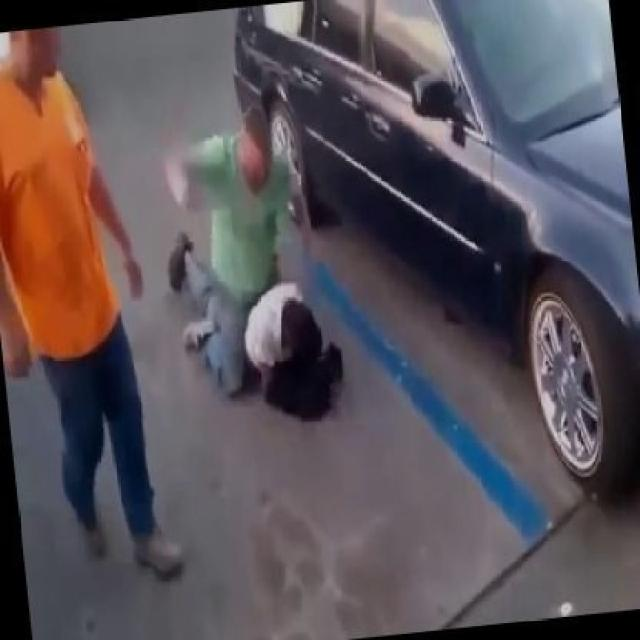fight: (162, 104, 347, 418)
non-fight: (0, 20, 192, 580)
